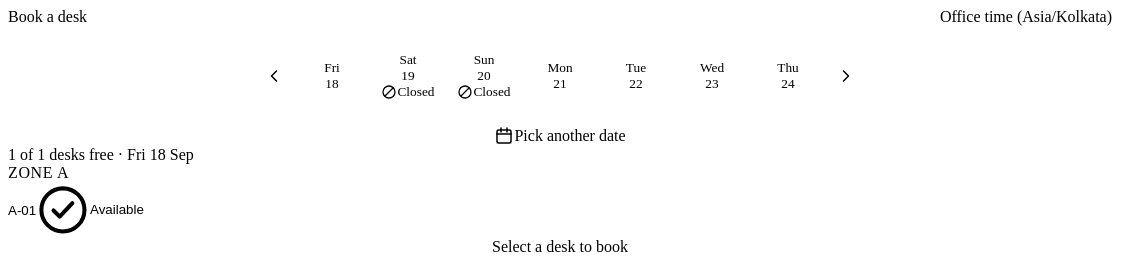
Test case: BookADesk — selecting a desk arms the confirm action (US-007/AC-01, AC-02) › changing the date clears the desk selection and disables the confirm action (edge case)
Click the radio button labelled "A-01 Available".
click(63, 210)  # box [8,182,1112,238]
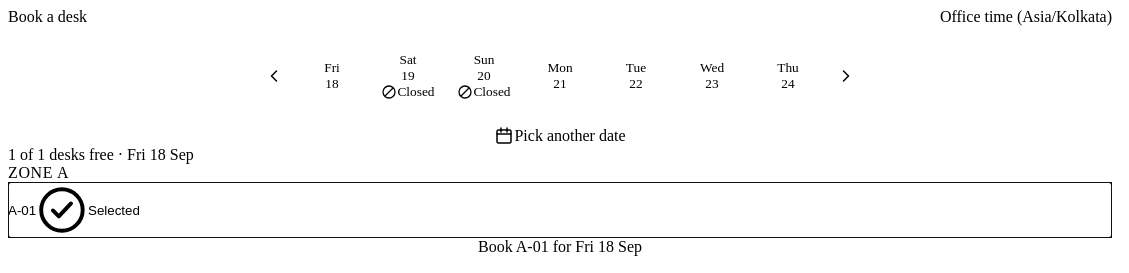
Now the button "Book A-01 for Fri 18 Sep" is enabled, box [8,238,1112,256]
Click the radio button labelled "Mon 21".
click(560, 76)  # box [522,26,598,126]
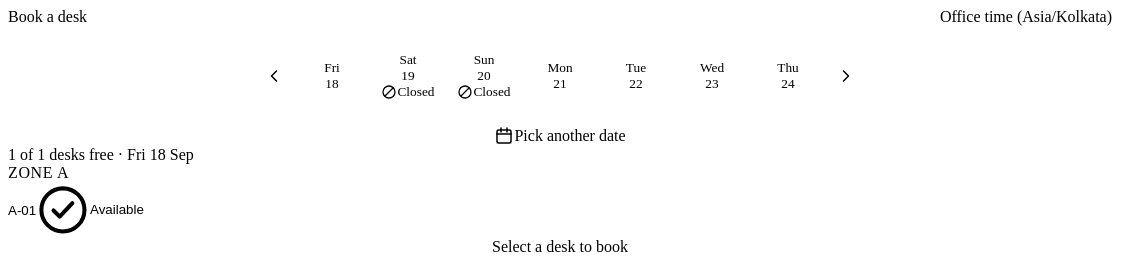
Now the button "Select a desk to book" is disabled, box [8,238,1112,256]
